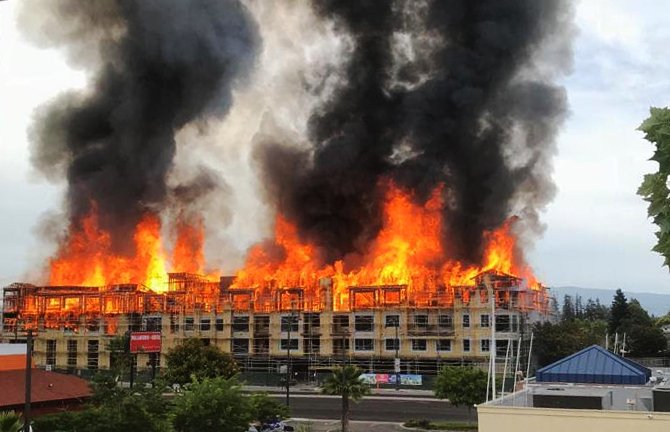Fire: (372, 179, 445, 282), (57, 222, 156, 286), (451, 216, 524, 276), (278, 216, 315, 284), (169, 220, 207, 275), (319, 248, 366, 286), (231, 250, 277, 285)
